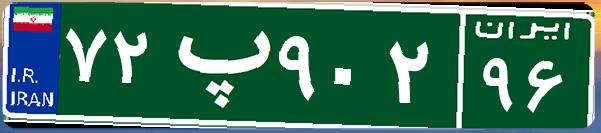0: (330, 28, 385, 110)
2: (385, 28, 445, 110), (110, 28, 158, 105)
6: (525, 38, 570, 115)
7: (57, 26, 110, 107)
9: (273, 28, 330, 110), (475, 38, 525, 113)
پ: (158, 15, 273, 115)
